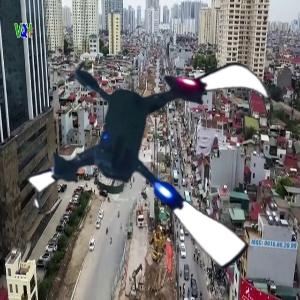drone: (30, 15, 297, 282)
